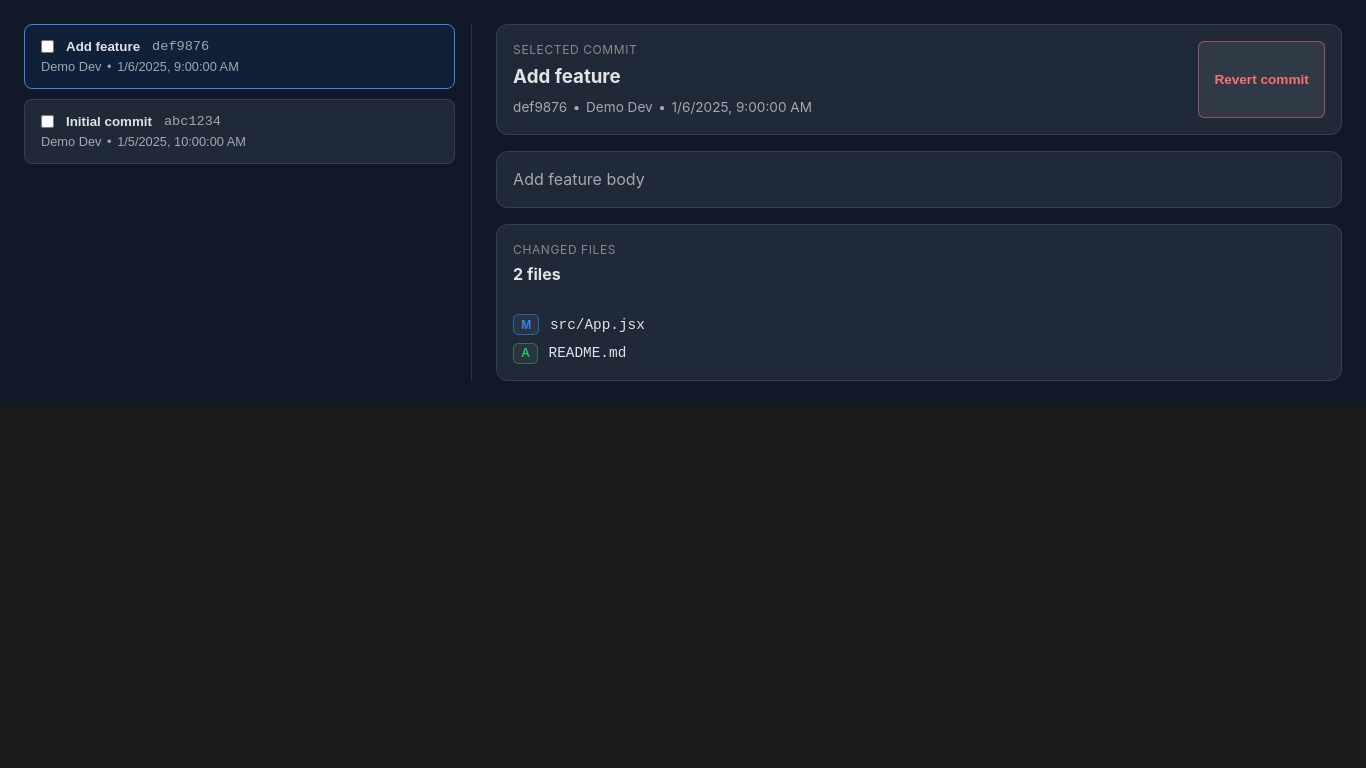
Scenario: CommitsTab › reverting a commit posts to the revert endpoint and refreshes list
The width and height of the screenshot is (1366, 768).
Click the button with test id "commit-revert".
click(1262, 79)  # box [1198, 41, 1325, 118]
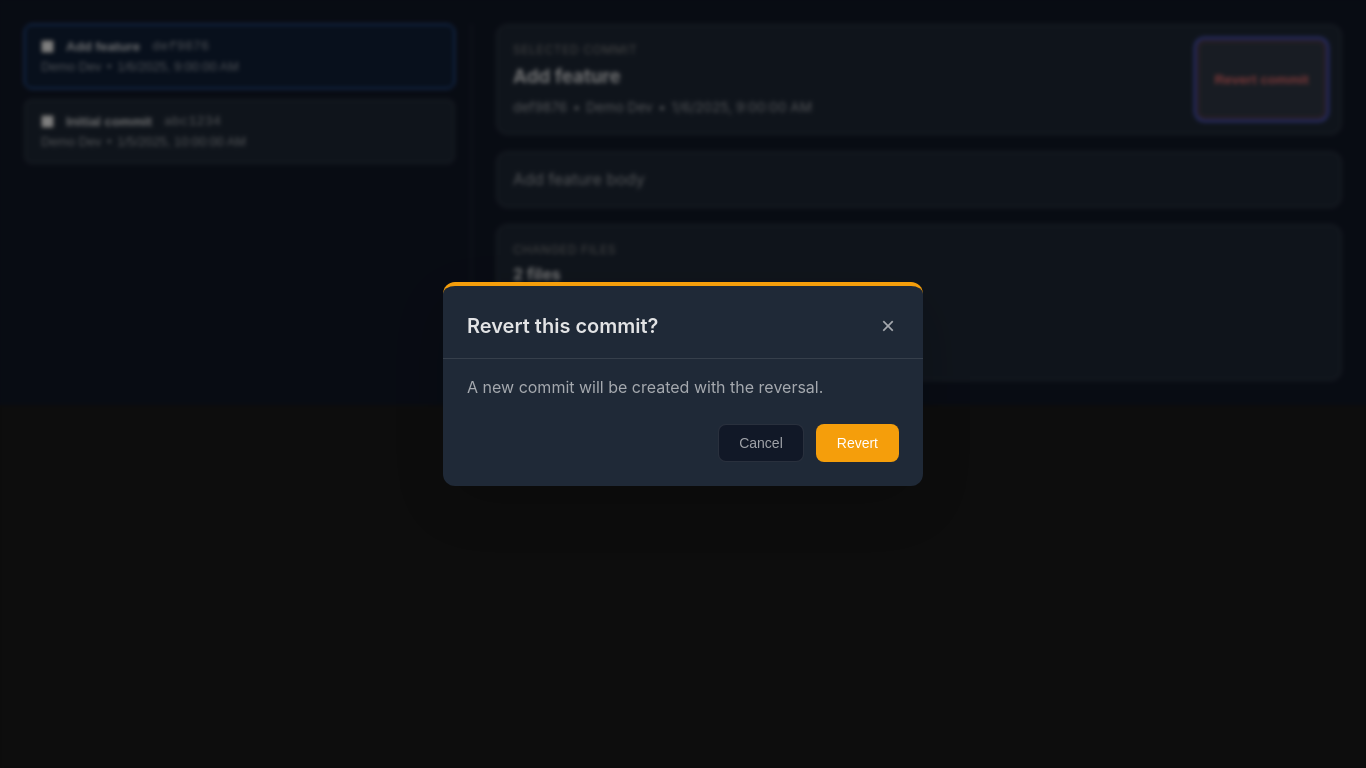
Now the element with test id "modal-content" is shown, box [443, 282, 923, 486]
Click the button with test id "modal-confirm".
click(857, 443)  # box [816, 424, 899, 462]
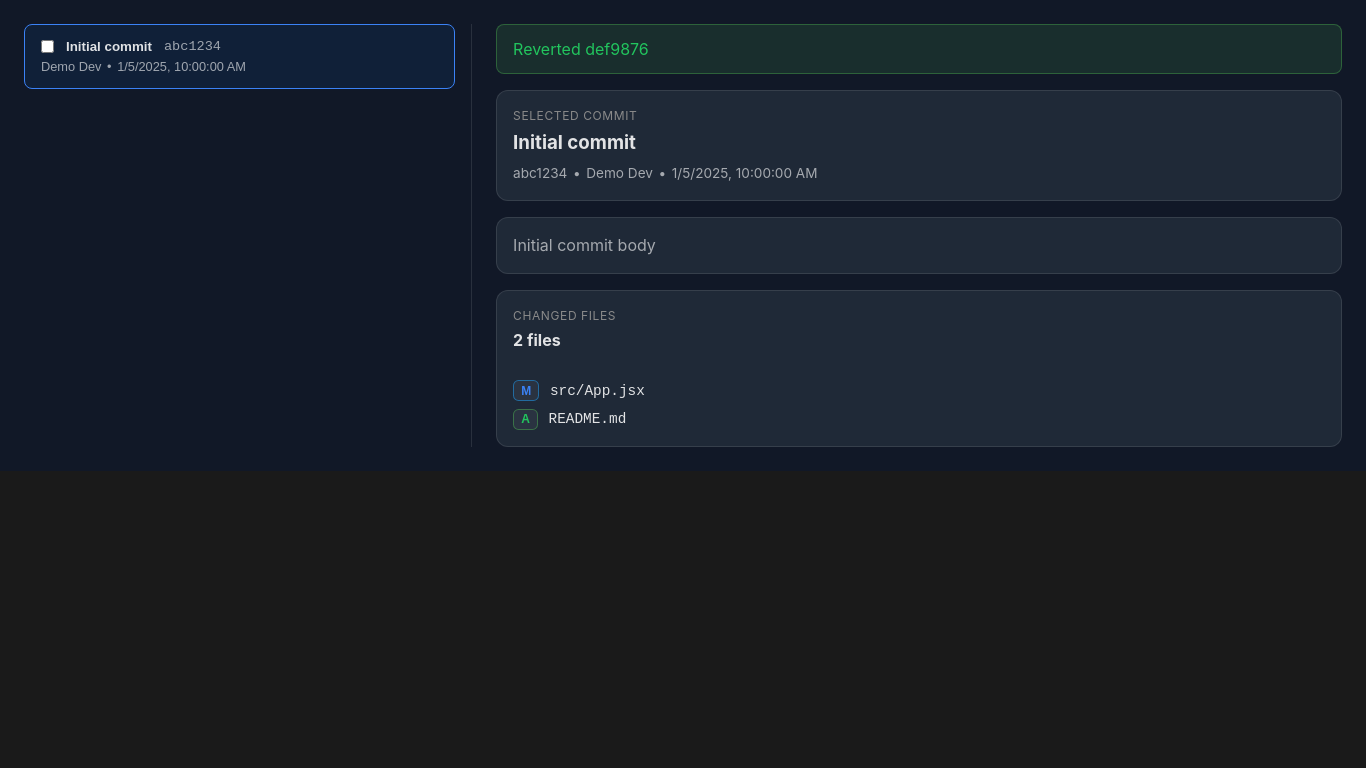
Now the text "Reverted def9876" is shown, box [496, 24, 1342, 74]
